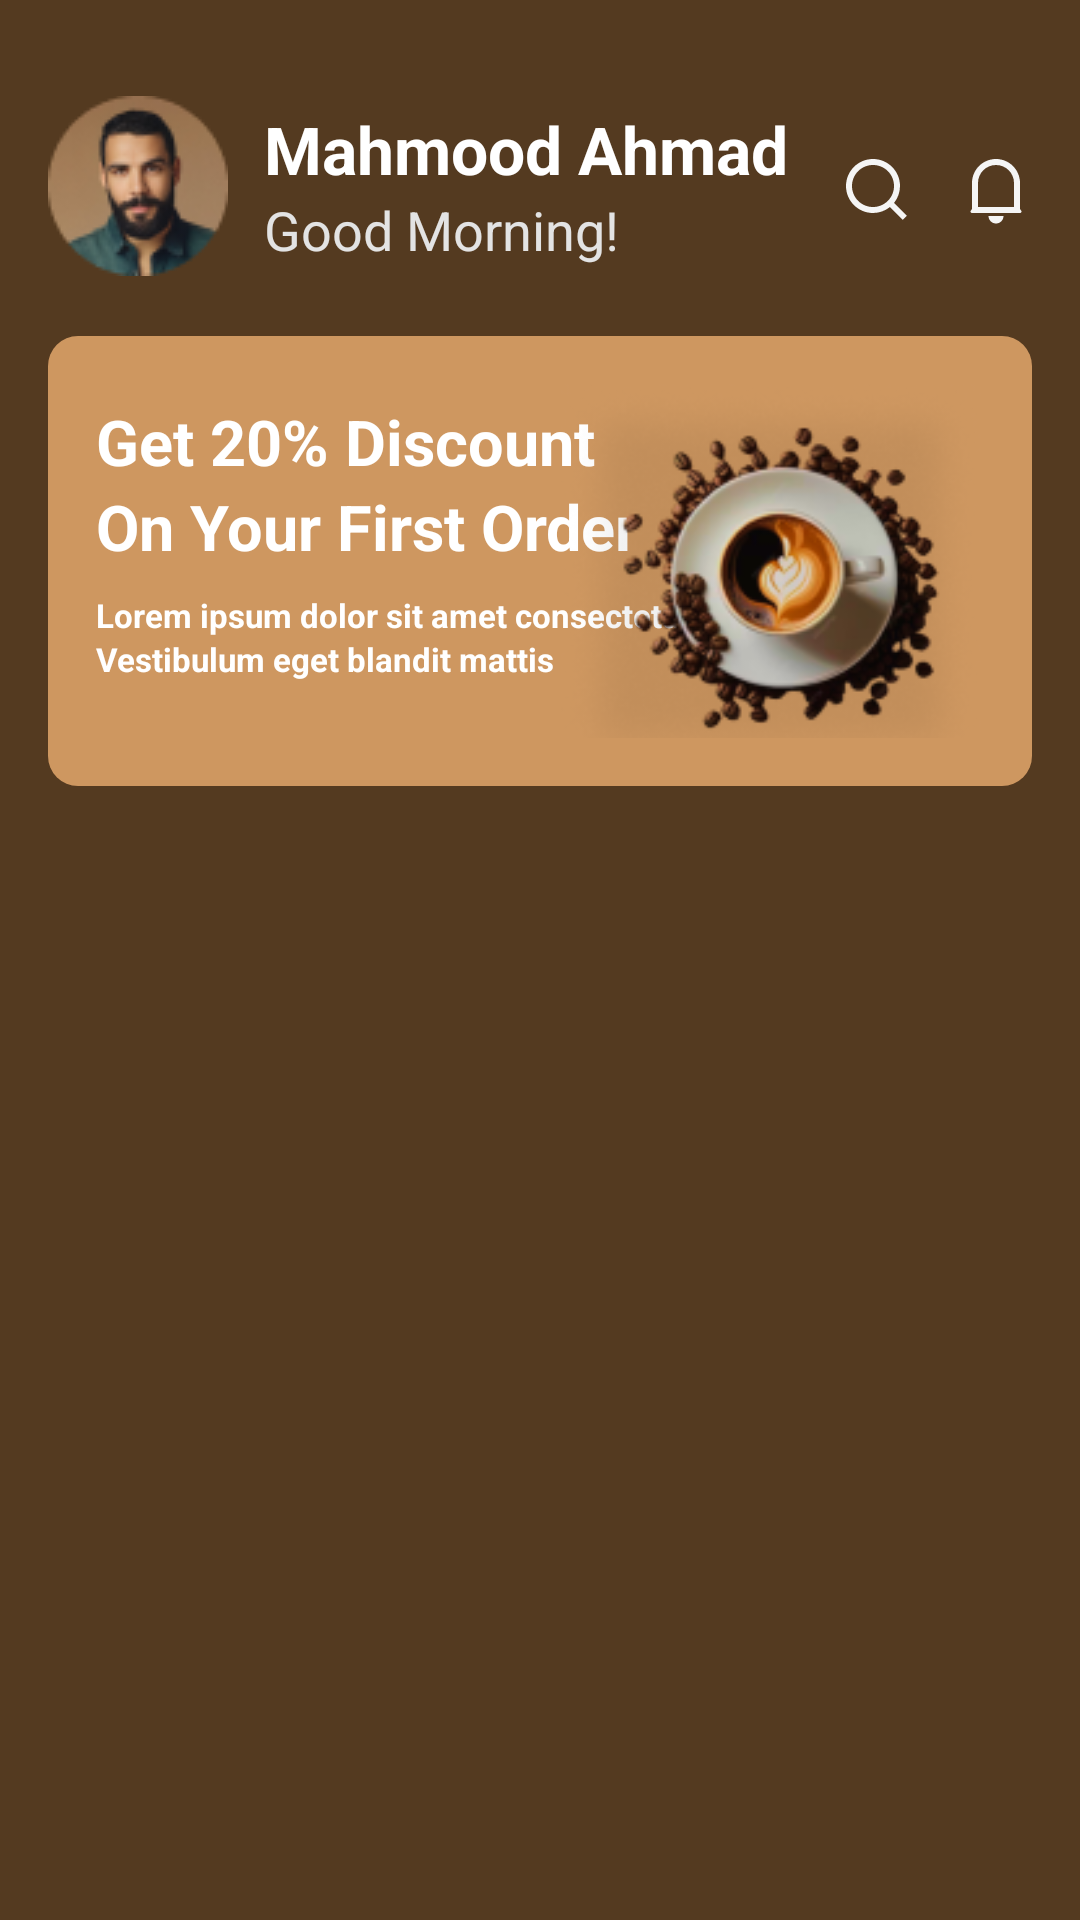

Named icons in this screenshot (1080px×1920px) and their centers, (x,y):
notification: (996,191)
search: (876,189)
